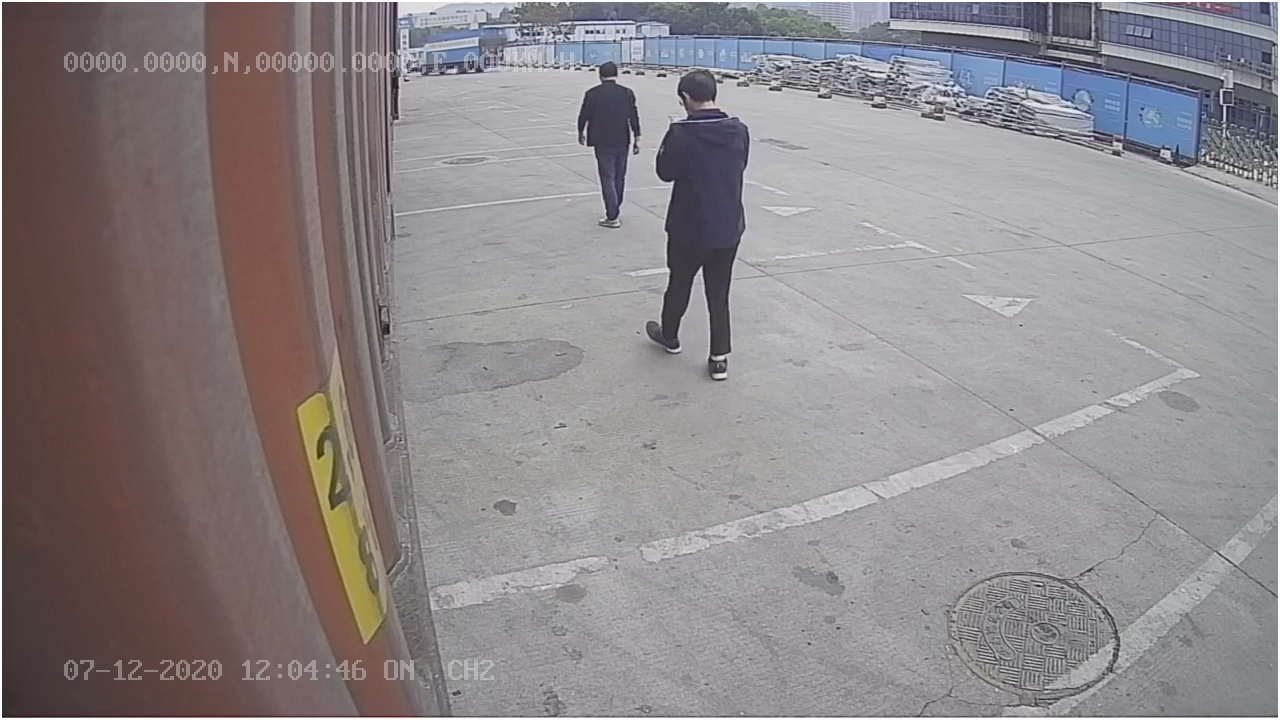person: (643, 67, 752, 379)
